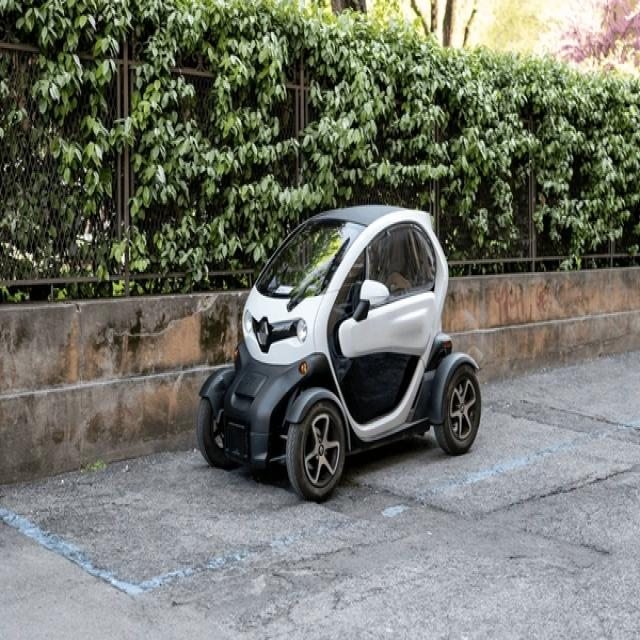renault: (257, 310, 270, 352)
